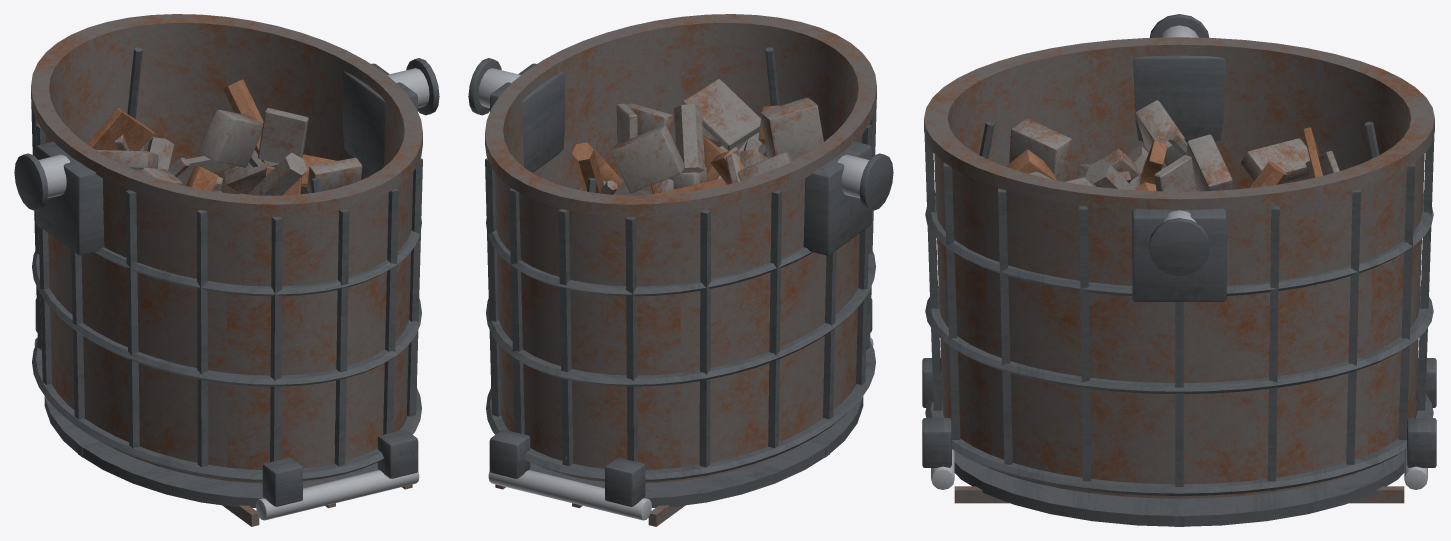
The model's file is scrap_bucket.glb.
3 renders of one model, left to right at view 1: azimuth 30°, elevation 25°; view 2: azimuth 150°, elevation 25°; view 3: azimuth 270°, elevation 25°, orthographic. The views are drawn at different scales.
Parts seen in each view (by area): view 1: ScrapBucket_geo, scrapLoad_geo, clamR_geo, clamL_geo; view 2: ScrapBucket_geo, scrapLoad_geo, clamL_geo, clamR_geo; view 3: ScrapBucket_geo, scrapLoad_geo, clamL_geo, clamR_geo.
Part boxes in pixels (left/top/right/bottom): ScrapBucket_geo: left=14, top=14, right=439, bottom=506; scrapLoad_geo: left=87, top=79, right=362, bottom=195; clamR_geo: left=78, top=443, right=419, bottom=526; clamL_geo: left=34, top=337, right=102, bottom=457; ScrapBucket_geo: left=468, top=14, right=893, bottom=506; scrapLoad_geo: left=572, top=79, right=823, bottom=195; clamL_geo: left=488, top=443, right=829, bottom=526; clamR_geo: left=805, top=337, right=873, bottom=457; ScrapBucket_geo: left=922, top=14, right=1436, bottom=498; scrapLoad_geo: left=1006, top=100, right=1339, bottom=191; clamL_geo: left=1174, top=449, right=1427, bottom=526; clamR_geo: left=931, top=449, right=1184, bottom=526.
Size of the model in its own units: 4.14 by 3.21 by 4.35.
Materials: 5 (5 with a texture image).
